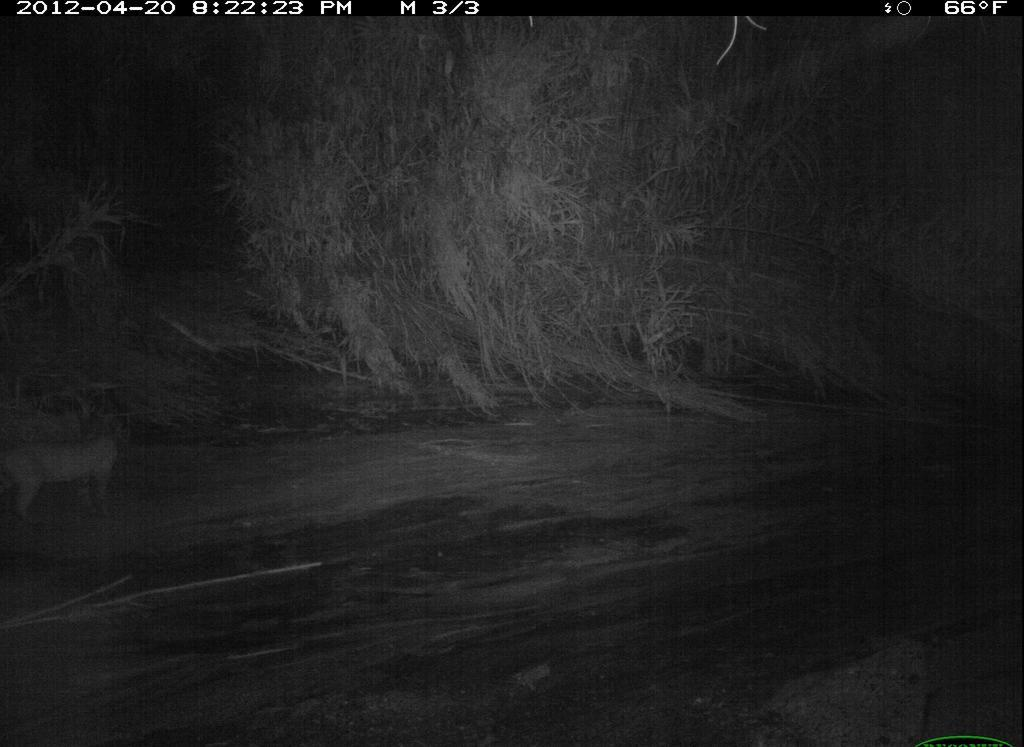bobcat: (1, 409, 127, 534)
